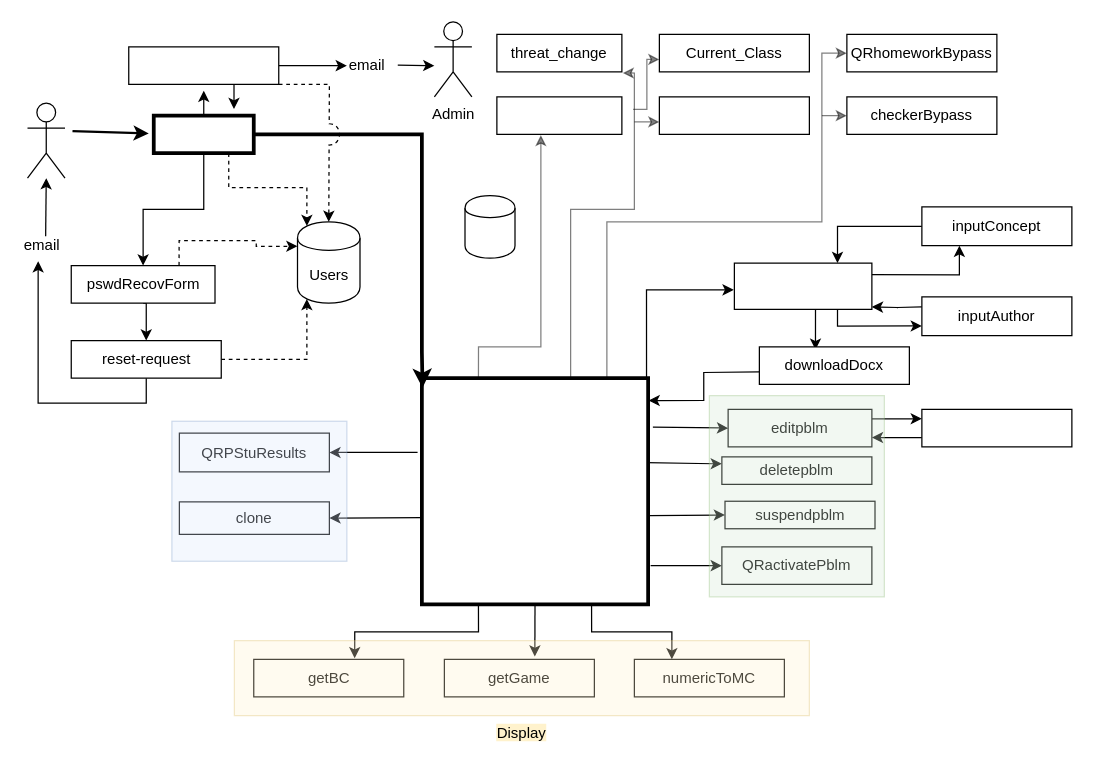
This 1094x764 diagram has some shape labels left out. The shapes that lost their labels are listed below. From the top down, each one's centre as x and y in pixels, then its label:
(x=203, y=65): register
(x=203, y=133): login
(x=559, y=115): delete_expired
(x=733, y=115): suspend_user
(x=489, y=226): Activity
(x=802, y=285): requestPblmNum
(x=996, y=427): editMeta
(x=259, y=490): Spec
(x=534, y=491): QRPRepo
(x=796, y=495): Func
